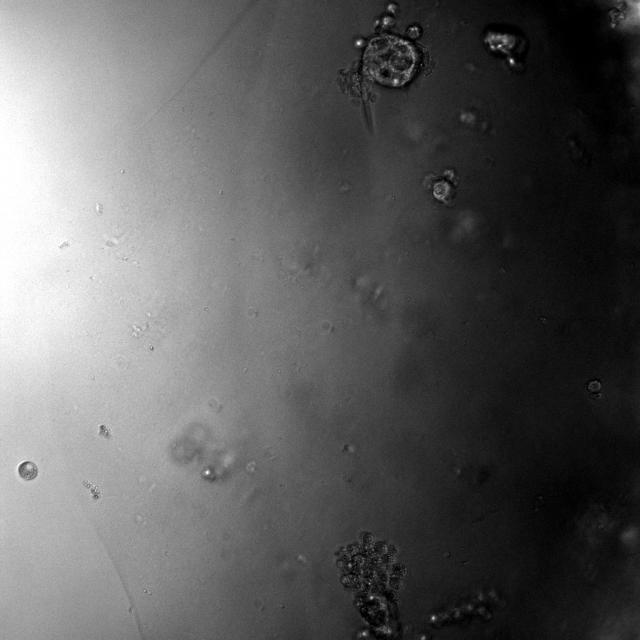organoid: (338, 3, 426, 108), (335, 532, 406, 636), (431, 590, 501, 626), (483, 24, 528, 71), (422, 167, 459, 205), (608, 0, 628, 28), (18, 460, 38, 480), (586, 379, 602, 400)
